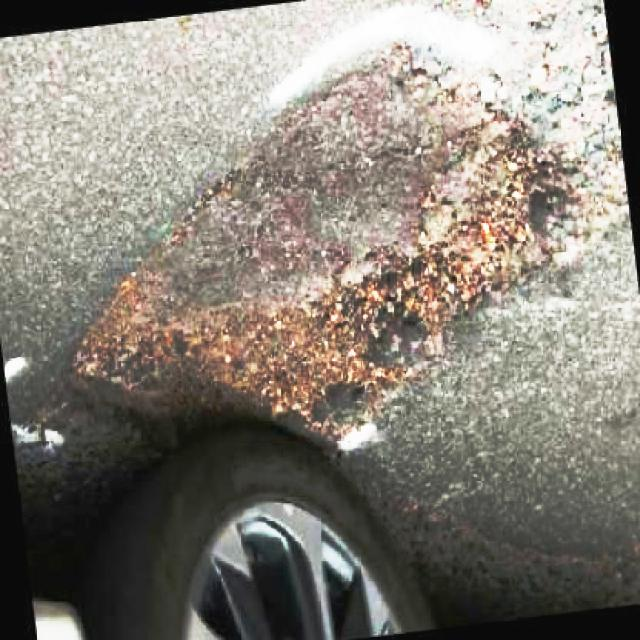pothole: (63, 34, 612, 458)
